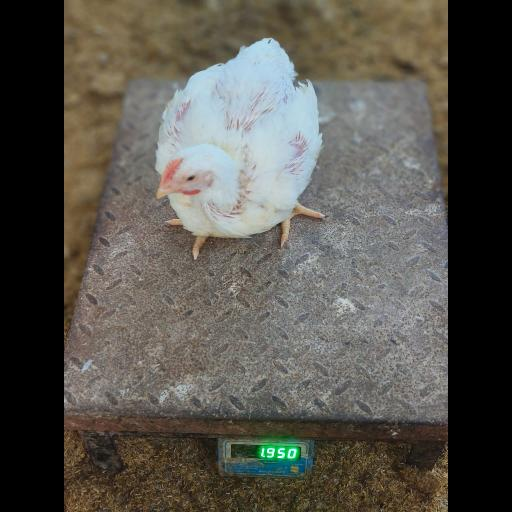chick: (155, 39, 327, 259)
